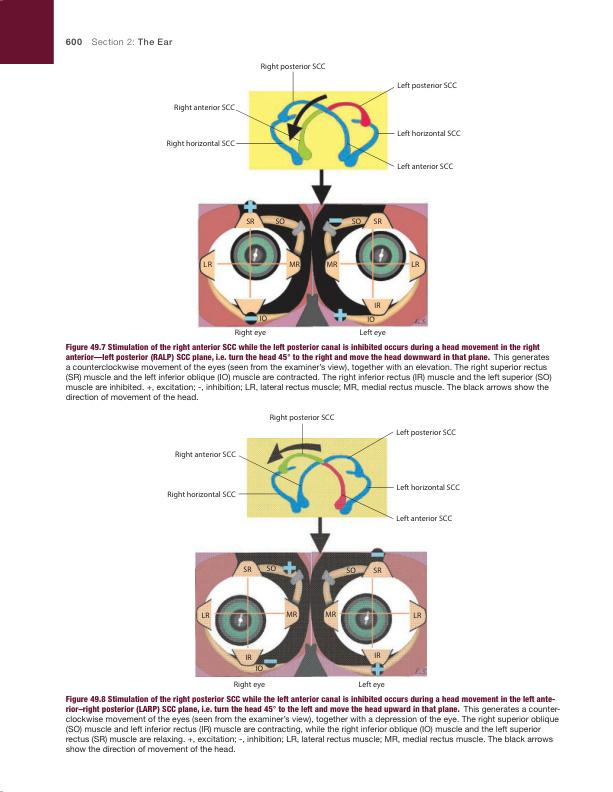caption: (64, 693, 562, 754), (64, 341, 554, 402)
header: (91, 37, 173, 47)
image: (158, 408, 468, 692), (159, 55, 468, 339)
